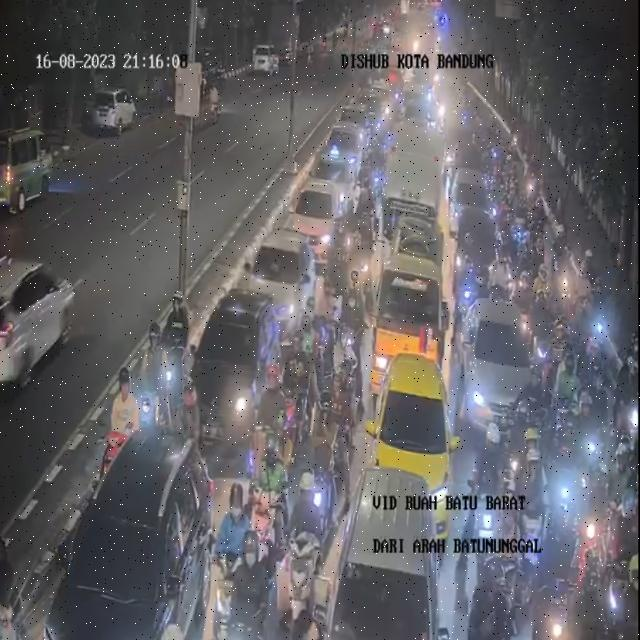cars: (35, 421, 214, 640), (185, 279, 282, 458), (218, 214, 334, 345)
